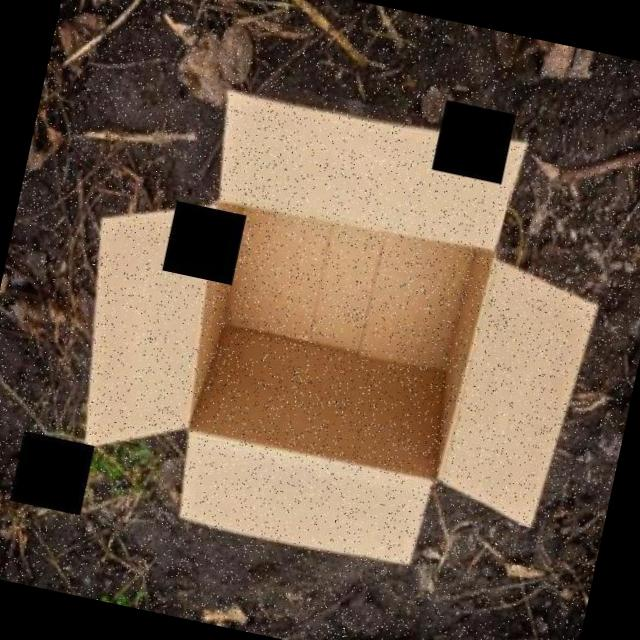box: (29, 51, 636, 624)
